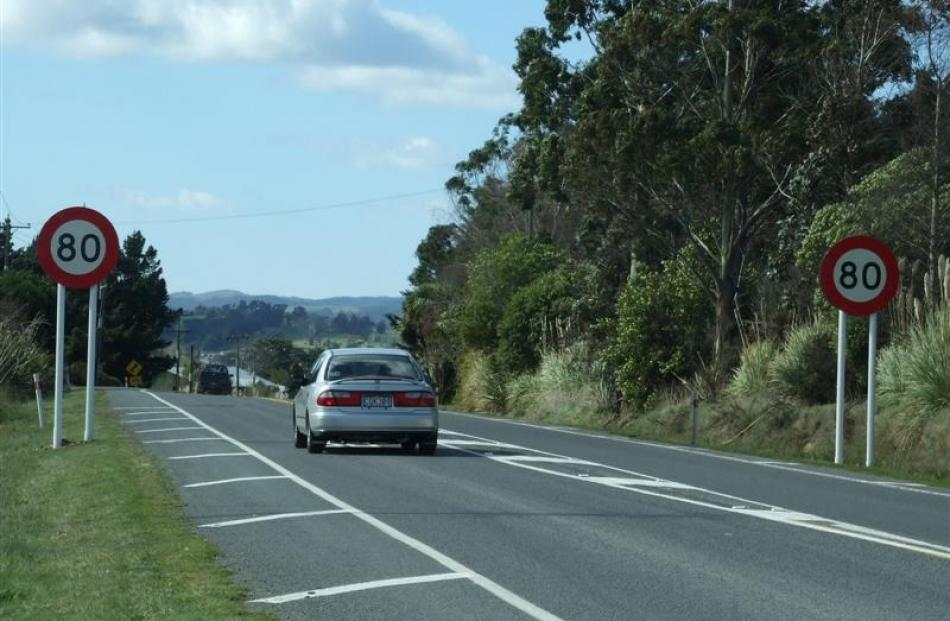Speed_limit_80km: (36, 208, 121, 289), (819, 236, 900, 315)
